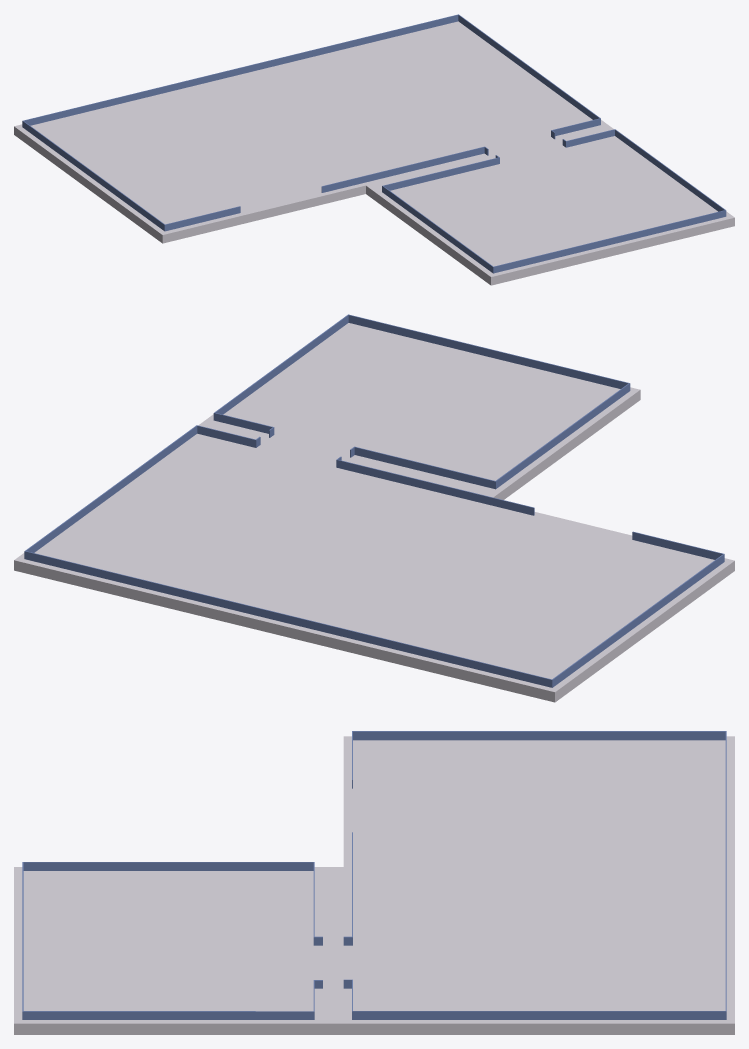
Rendered from floor+plinthes.glb.
3 views of the same model, one above another, from view 1: azimuth 30°, elevation 25°; view 2: azimuth 150°, elevation 25°; view 3: azimuth 270°, elevation 25° (orthographic). The views are drawn at different scales.
Visible parts, largest first — view 1: sols, plinthes-2, plinthes; view 2: sols, plinthes-2, plinthes; view 3: sols, plinthes-2, plinthes.
Boxes of the visible parts, x1,y1,x2,y2 form: sols: (14, 21, 734, 285); plinthes-2: (22, 14, 600, 231); plinthes: (382, 129, 726, 273); sols: (14, 323, 734, 702); plinthes-2: (24, 425, 724, 687); plinthes: (213, 314, 630, 489); sols: (14, 736, 734, 1034); plinthes-2: (343, 731, 726, 1019); plinthes: (22, 862, 322, 1019).
Size of the model in its own units: 6.6 by 0.212 by 7.
